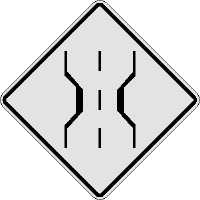narrow-road: (40, 33, 151, 174)
